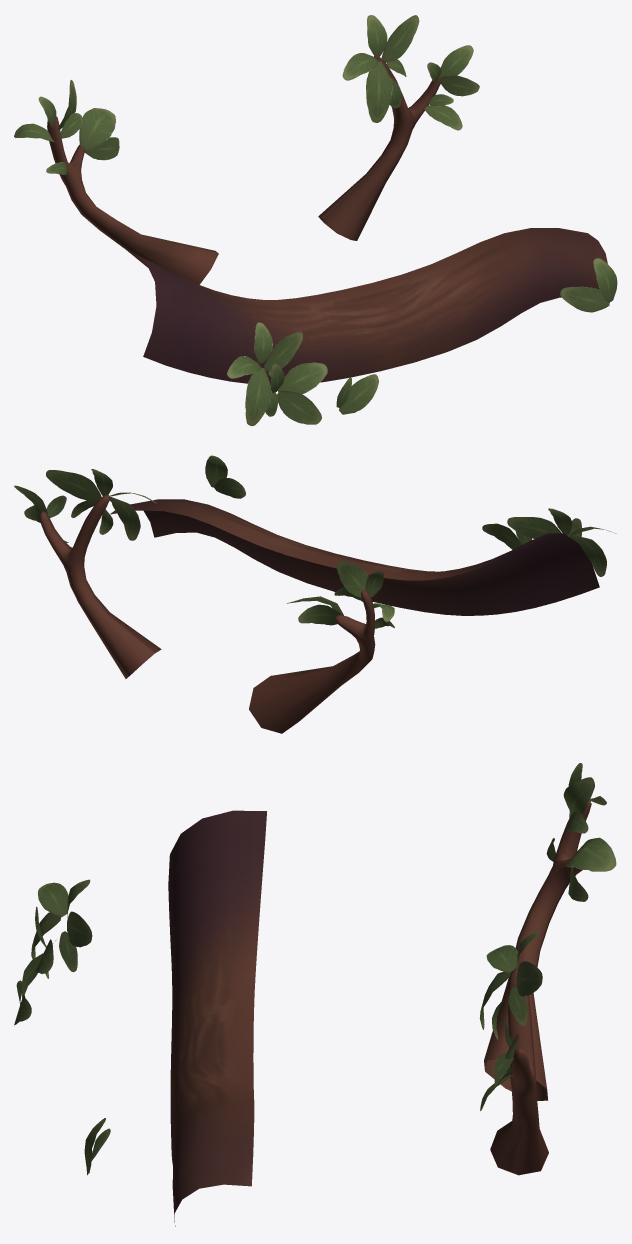
Rendered from liefdesvogelBranch.fbx.
The picture shows the model from 3 angles, top to bottom: view 1: azimuth 30°, elevation 25°; view 2: azimuth 150°, elevation 25°; view 3: azimuth 270°, elevation 25°; orthographic projection. The views are drawn at different scales.
Visible parts, largest first — view 1: Cube.017, Plane.017; view 2: Cube.017, Plane.017; view 3: Cube.017, Plane.017.
Boxes of the visible parts, x1,y1,x2,y2 form: Cube.017: [47, 55, 607, 384]; Plane.017: [14, 15, 617, 425]; Cube.017: [39, 495, 599, 733]; Plane.017: [14, 455, 616, 628]; Cube.017: [168, 801, 591, 1226]; Plane.017: [14, 763, 616, 1175].
Bounding box in the file's own units: 932 × 432 × 825.
